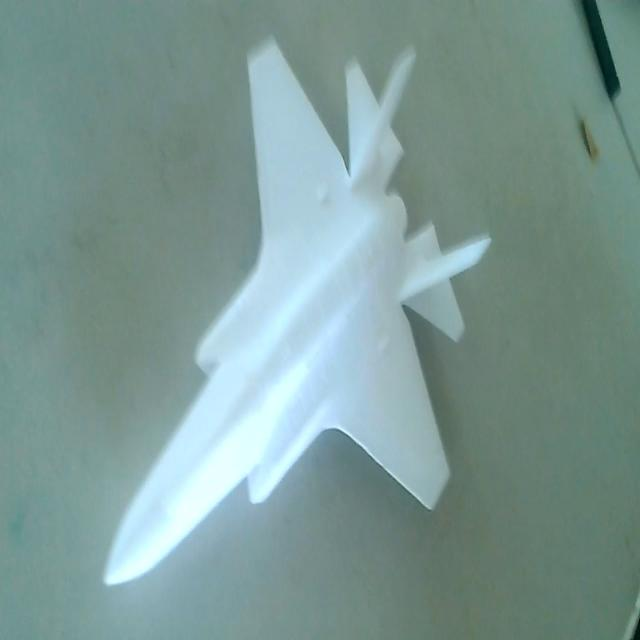Jet: (98, 30, 495, 590)
